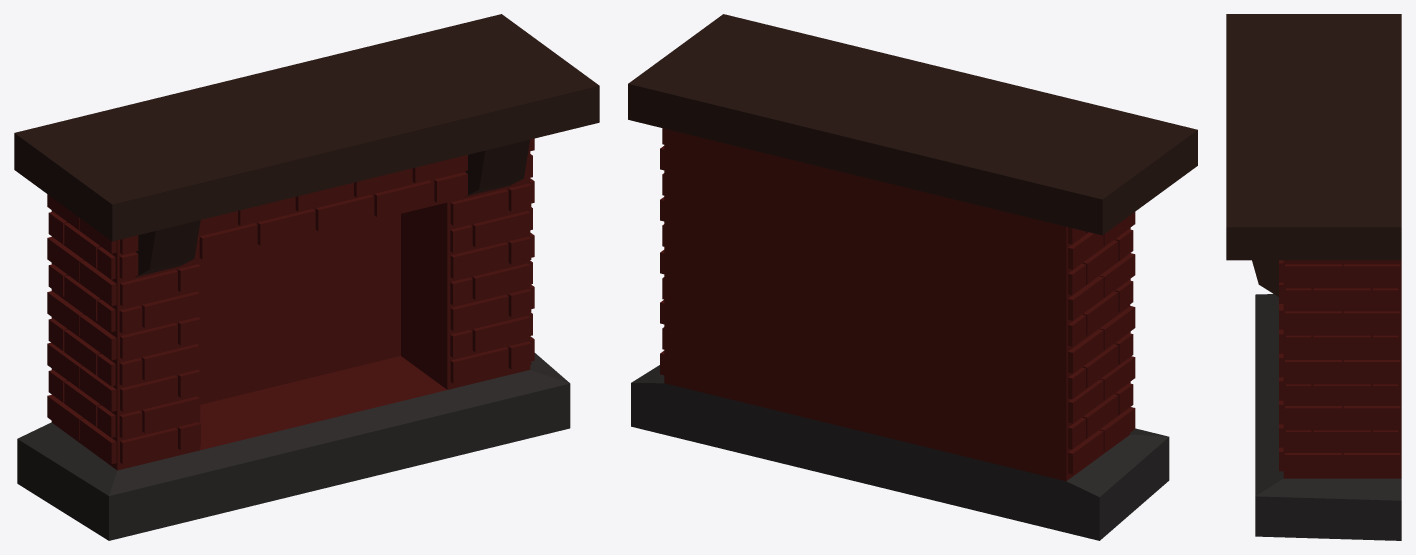
The model's file is fireplace.FBX.
3 views of the same model, side by side, from view 1: azimuth 30°, elevation 25°; view 2: azimuth 150°, elevation 25°; view 3: azimuth 270°, elevation 25° (orthographic). The views are drawn at different scales.
Visible parts, largest first — view 1: Box007; view 2: Box007; view 3: Box007.
Boxes of the visible parts, x1,y1,x2,y2 form: Box007: [14, 14, 599, 540]; Box007: [628, 14, 1197, 540]; Box007: [1226, 14, 1401, 540].
Size of the model in its own units: 76.76 by 52.89 by 26.72.
